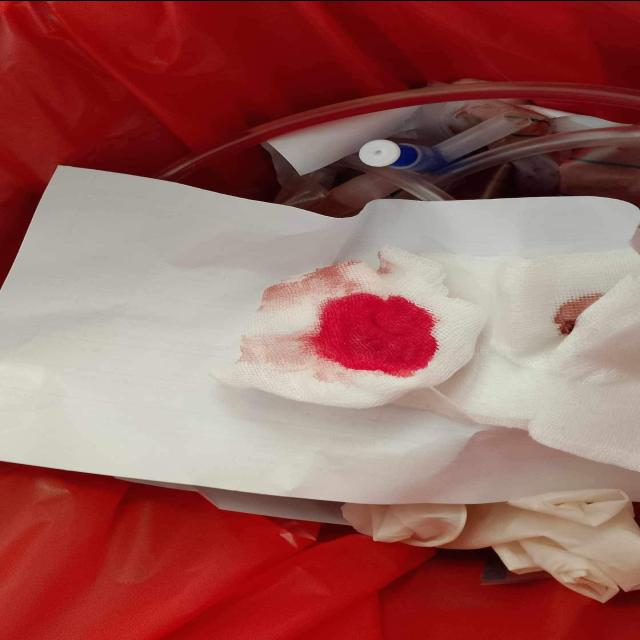General: (2, 78, 637, 600), (149, 77, 637, 219)
Infectious: (206, 244, 489, 409)
Sharps: (356, 110, 534, 174)
